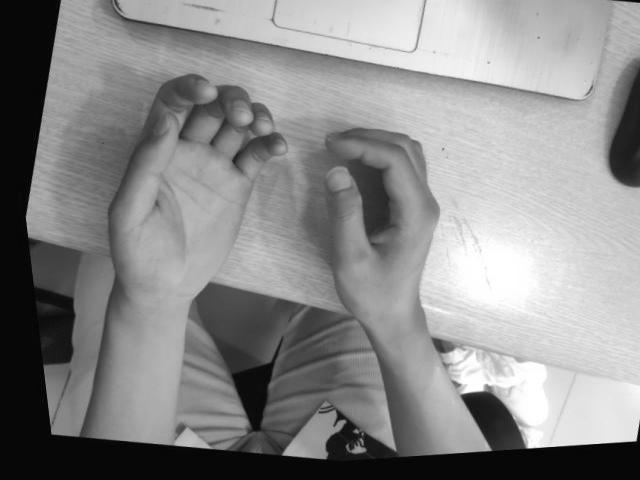not-gloved: (110, 72, 287, 298), (320, 124, 442, 318)
